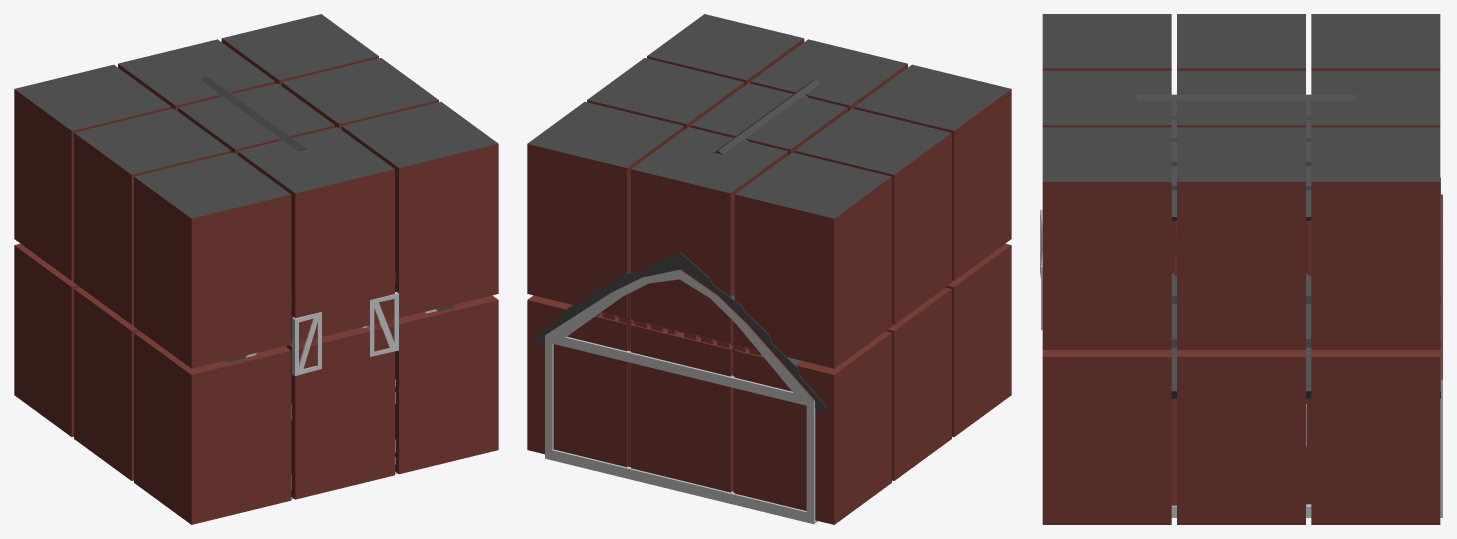
Rendered from BigBarn_destructible.gltf.
3 views of the same model, side by side, from view 1: azimuth 30°, elevation 25°; view 2: azimuth 150°, elevation 25°; view 3: azimuth 270°, elevation 25° (orthographic). The views are drawn at different scales.
Parts seen in each view (by area): view 1: block_f1_r2_c0, block_f0_r2_c0, block_f1_r2_c1, block_f1_r2_c2, block_f0_r2_c1, block_f0_r2_c2, block_f1_r0_c0, block_f1_r1_c0, block_f0_r1_c0, block_f0_r0_c0, block_f1_r0_c2, block_f1_r1_c2 (+2 smaller); view 2: block_f1_r0_c0, block_f0_r0_c0, block_f1_r0_c1, block_f1_r0_c2, block_f0_r0_c1, block_f0_r0_c2, block_f1_r1_c0, block_f1_r2_c0, block_f0_r1_c0, block_f0_r2_c0, block_f1_r1_c2, block_f1_r2_c2 (+2 smaller); view 3: block_f1_r1_c2, block_f1_r0_c2, block_f1_r2_c2, block_f0_r0_c2, block_f0_r1_c2, block_f0_r2_c2, block_f1_r0_c1, block_f1_r2_c1, block_f1_r1_c1, block_f1_r0_c0, block_f1_r2_c0, block_f1_r1_c0.
Part boxes in pixels (bbox=[...]): block_f1_r2_c0: bbox=[134, 152, 291, 368]; block_f0_r2_c0: bbox=[134, 331, 291, 524]; block_f1_r2_c1: bbox=[238, 127, 397, 347]; block_f1_r2_c2: bbox=[341, 102, 498, 321]; block_f0_r2_c1: bbox=[286, 322, 397, 499]; block_f0_r2_c2: bbox=[395, 295, 498, 474]; block_f1_r0_c0: bbox=[14, 64, 171, 280]; block_f1_r1_c0: bbox=[74, 108, 231, 324]; block_f0_r1_c0: bbox=[74, 287, 139, 480]; block_f0_r0_c0: bbox=[14, 243, 80, 436]; block_f1_r0_c2: bbox=[221, 14, 378, 85]; block_f1_r1_c2: bbox=[281, 58, 438, 129]; block_f1_r0_c0: bbox=[731, 152, 891, 368]; block_f0_r0_c0: bbox=[731, 331, 891, 524]; block_f1_r0_c1: bbox=[627, 127, 787, 346]; block_f1_r0_c2: bbox=[527, 102, 684, 320]; block_f0_r0_c1: bbox=[627, 319, 733, 503]; block_f0_r0_c2: bbox=[527, 295, 634, 478]; block_f1_r1_c0: bbox=[794, 108, 951, 324]; block_f1_r2_c0: bbox=[854, 64, 1011, 280]; block_f0_r1_c0: bbox=[886, 287, 951, 480]; block_f0_r2_c0: bbox=[945, 243, 1011, 436]; block_f1_r1_c2: bbox=[587, 58, 744, 129]; block_f1_r2_c2: bbox=[647, 14, 804, 85]; block_f1_r1_c2: bbox=[1174, 127, 1308, 349]; block_f1_r0_c2: bbox=[1308, 127, 1442, 349]; block_f1_r2_c2: bbox=[1041, 127, 1174, 349]; block_f0_r0_c2: bbox=[1308, 322, 1442, 524]; block_f0_r1_c2: bbox=[1174, 329, 1308, 524]; block_f0_r2_c2: bbox=[1041, 298, 1174, 524]; block_f1_r0_c1: bbox=[1308, 70, 1442, 255]; block_f1_r2_c1: bbox=[1040, 70, 1174, 266]; block_f1_r1_c1: bbox=[1174, 70, 1308, 166]; block_f1_r0_c0: bbox=[1311, 14, 1440, 70]; block_f1_r2_c0: bbox=[1042, 14, 1171, 70]; block_f1_r1_c0: bbox=[1177, 14, 1305, 70].
Size of the model in its own units: 11.84 by 11.51 by 12.
